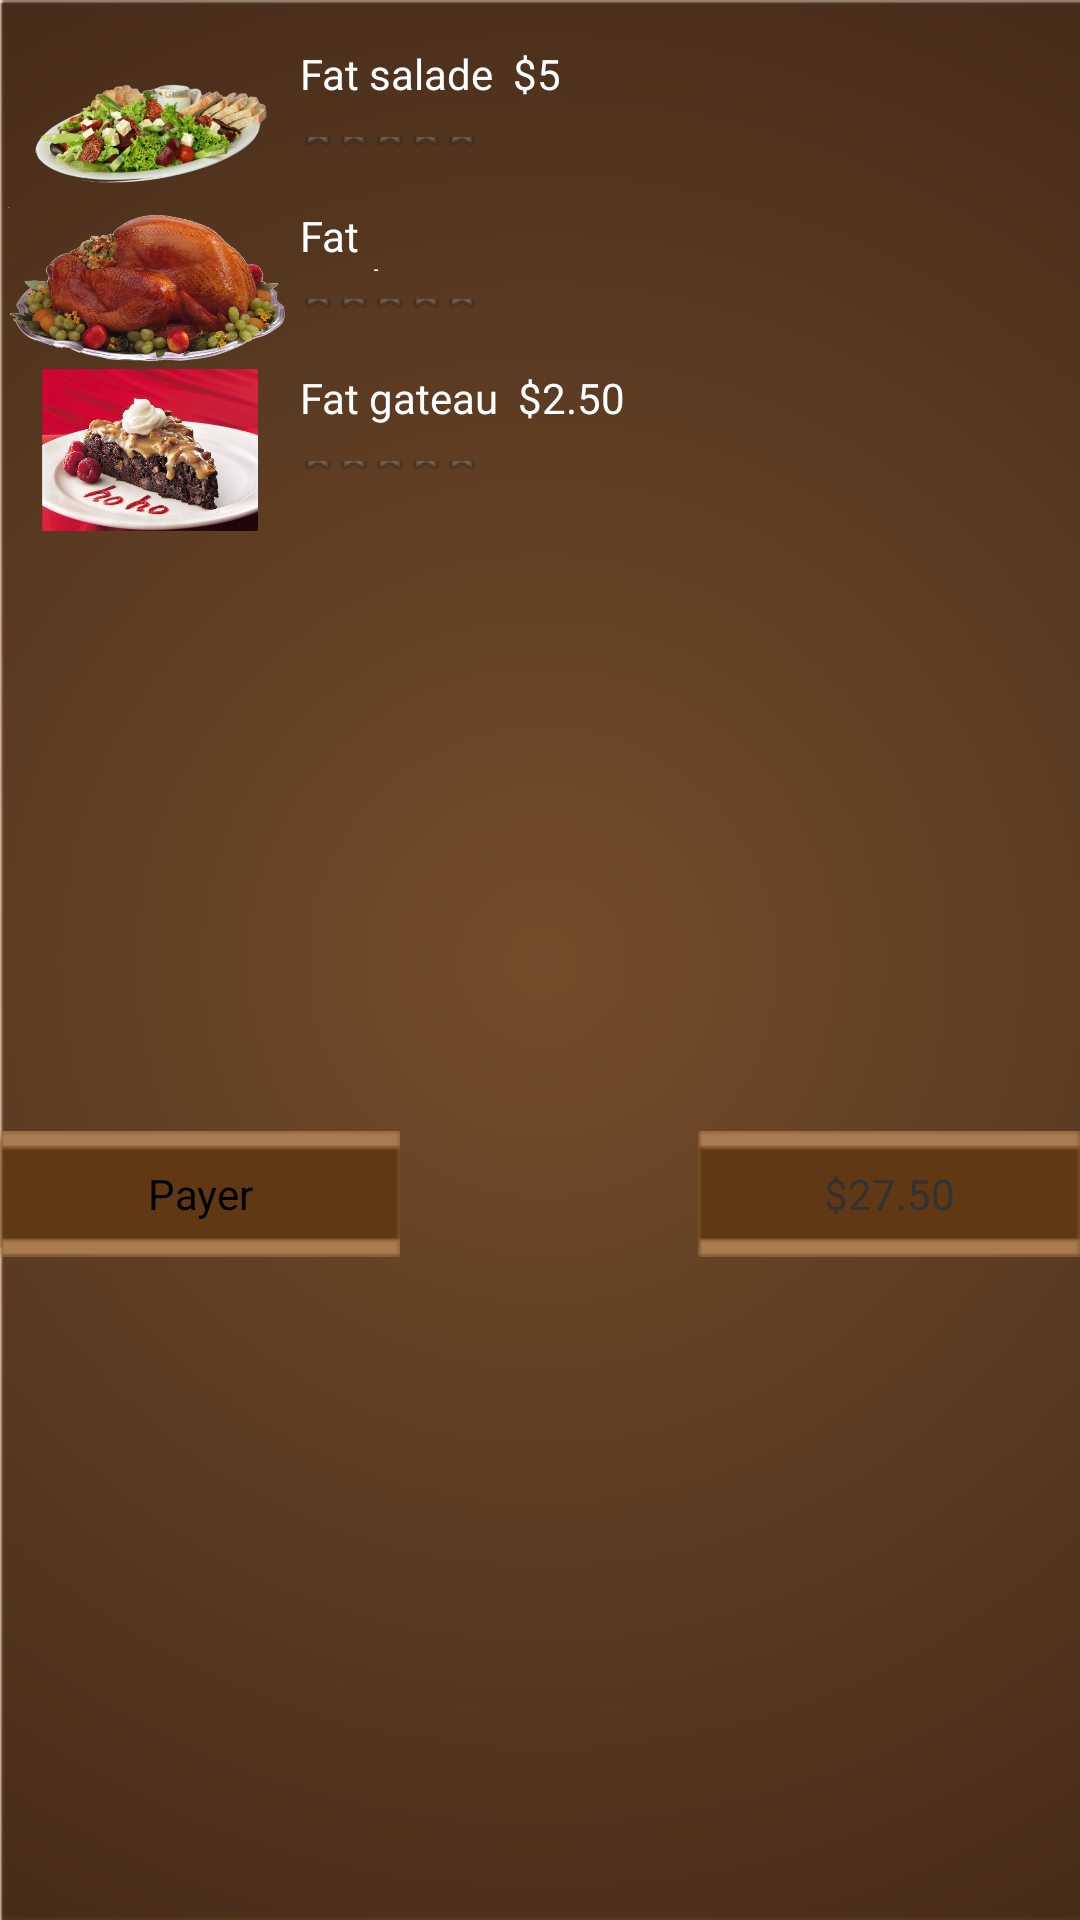

Icons on this 1080x1920 Android screen, each with the point to tap as [x,y]:
salad platter: [151,134]
turkey: [146,284]
